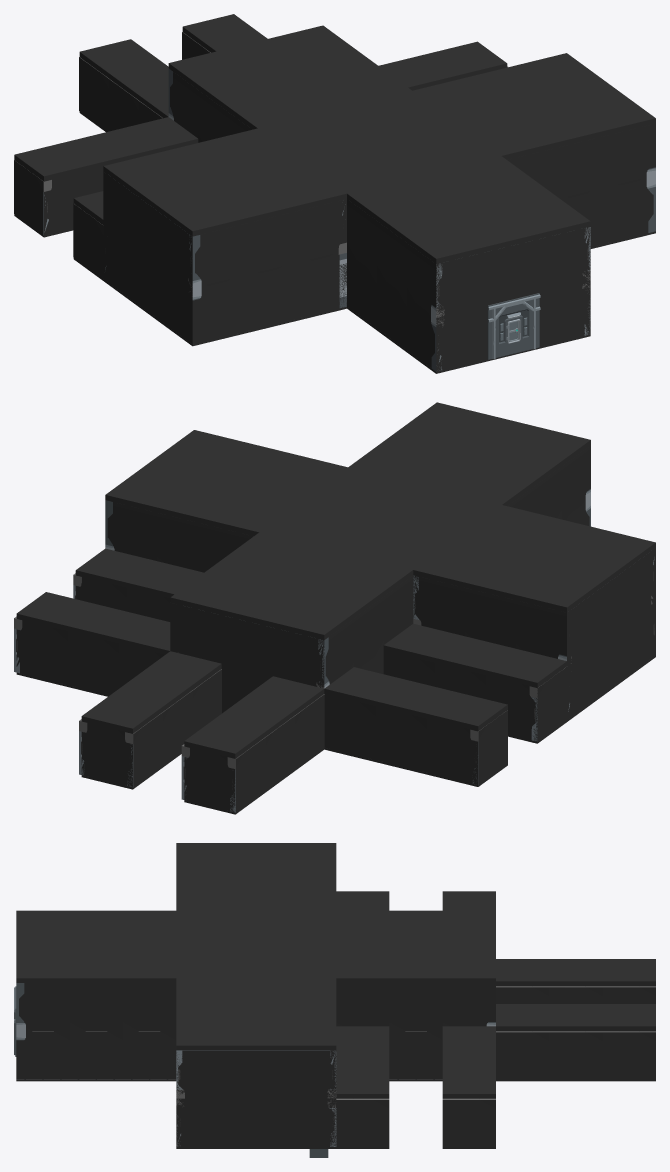
Rendered from brackeys-level.glb.
3 renders of one model, top to bottom at view 1: azimuth 30°, elevation 25°; view 2: azimuth 150°, elevation 25°; view 3: azimuth 270°, elevation 25°, orthographic. The views are drawn at different scales.
Visible parts, largest first — view 1: wall-col.005, wall-col.020, wall-col.013, wall-col.031, wall-col.061, wall-col.004, wall-col.012, wall-col.058, doorframe-col, wall-col.062, wall-col.032, wall-col.057 (+79 smaller); view 2: wall-col.085, wall-col.084, wall-col.018, wall-col.072, wall-col.083, wall-col.071, wall-col.019, wall-col.086, wall-col.087, wall-col.017, wall-col.067, wall-col.064 (+92 smaller); view 3: wall-col.095, wall-col.096, wall-col.097, wall-col.088, wall-col.089, wall-col.037, wall-col.010, wall-col.033, wall-col.034, wall-col.001, wall-col.002, wall-col.046 (+71 smaller).
Part boxes in pixels (x1,y1,x2,y2): wall-col.005: [431, 305, 487, 371]; wall-col.020: [487, 239, 539, 305]; wall-col.013: [431, 251, 487, 317]; wall-col.031: [244, 265, 295, 331]; wall-col.061: [244, 211, 295, 277]; wall-col.004: [539, 280, 590, 346]; wall-col.012: [539, 226, 590, 292]; wall-col.058: [553, 136, 604, 200]; doorframe-col: [487, 293, 540, 359]; wall-col.062: [295, 199, 346, 265]; wall-col.032: [189, 278, 243, 343]; wall-col.057: [604, 123, 655, 189]; wall-col.085: [324, 694, 375, 759]; wall-col.084: [375, 706, 426, 772]; wall-col.018: [221, 615, 272, 679]; wall-col.072: [67, 631, 118, 694]; wall-col.083: [427, 719, 478, 784]; wall-col.071: [16, 620, 67, 684]; wall-col.019: [273, 628, 329, 688]; wall-col.086: [184, 748, 235, 811]; wall-col.087: [81, 723, 132, 787]; wall-col.017: [170, 603, 221, 663]; wall-col.067: [464, 588, 515, 648]; wall-col.064: [156, 513, 207, 572]; wall-col.095: [496, 1031, 549, 1080]; wall-col.096: [549, 1031, 602, 1080]; wall-col.097: [602, 1031, 655, 1080]; wall-col.088: [336, 1098, 389, 1147]; wall-col.089: [442, 1098, 495, 1147]; wall-col.037: [389, 1031, 442, 1079]; wall-col.010: [229, 1050, 282, 1098]; wall-col.033: [123, 1031, 176, 1079]; wall-col.034: [69, 1031, 122, 1079]; wall-col.001: [176, 1098, 229, 1146]; wall-col.002: [229, 1098, 282, 1146]; wall-col.046: [69, 983, 122, 1031].
Bounding box in the file's own units: 45.27 × 11.86 × 60.22.
246 materials, 246 textured.
